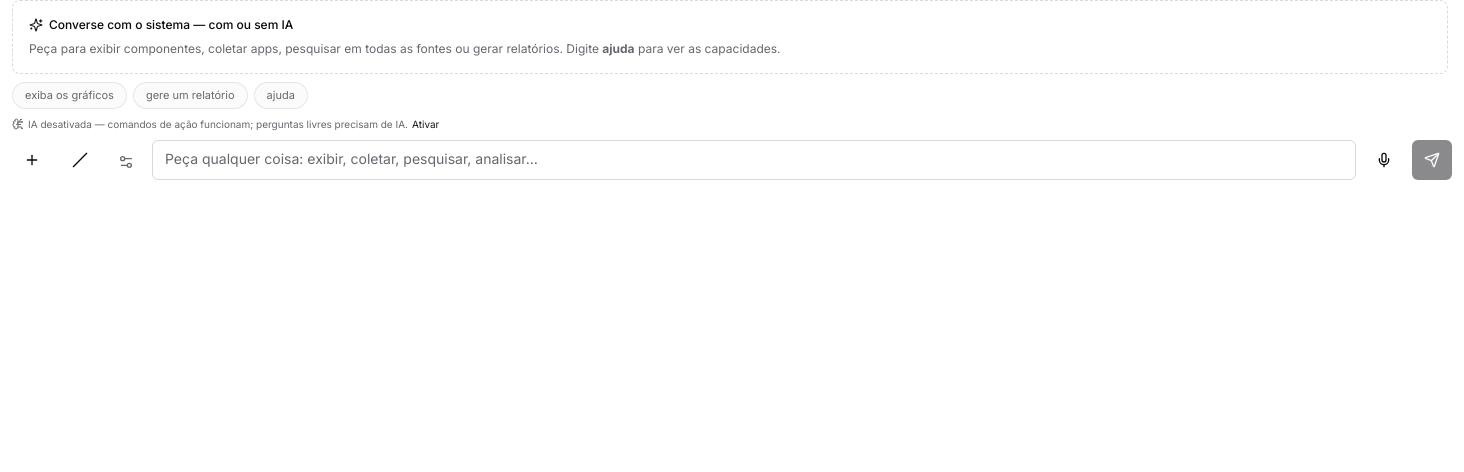
Scenario: UnifiedChatPanel — sem IA (ações locais) › "ajuda" responde com as capacidades sem IA
The image size is (1464, 472).
Step 1. Type "ajuda" into the text box named "Mensagem para a IA" → (754, 160), box x1=152 y1=140 x2=1356 y2=180
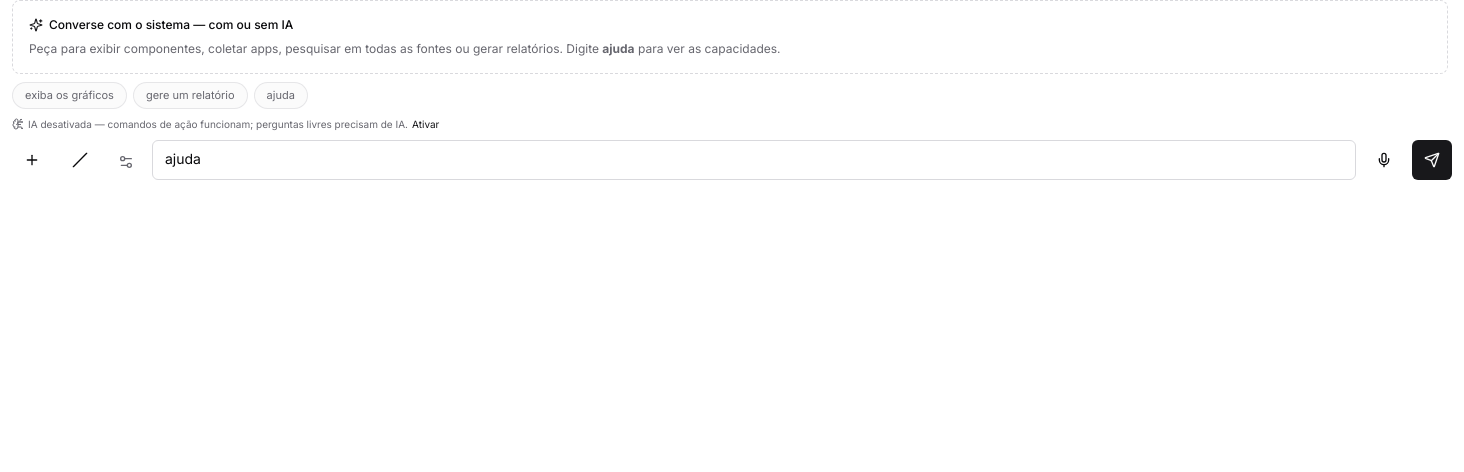
Step 2. Press Enter in the text box named "Mensagem para a IA", box x1=152 y1=140 x2=1356 y2=180
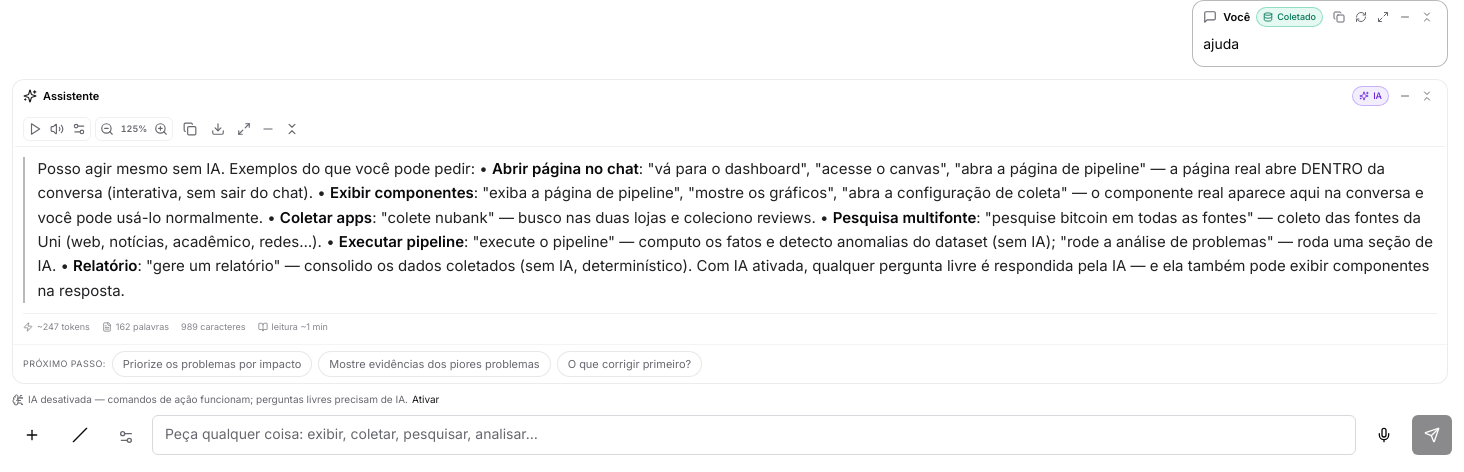
Result: the text "Posso agir mesmo sem IA" is shown at x1=38 y1=159 x2=492 y2=178
